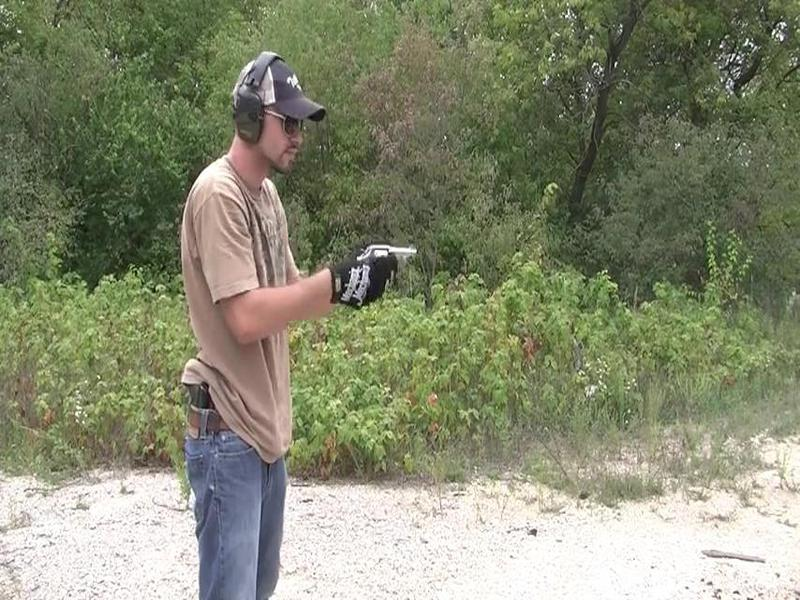Revolver: (346, 230, 429, 292)
